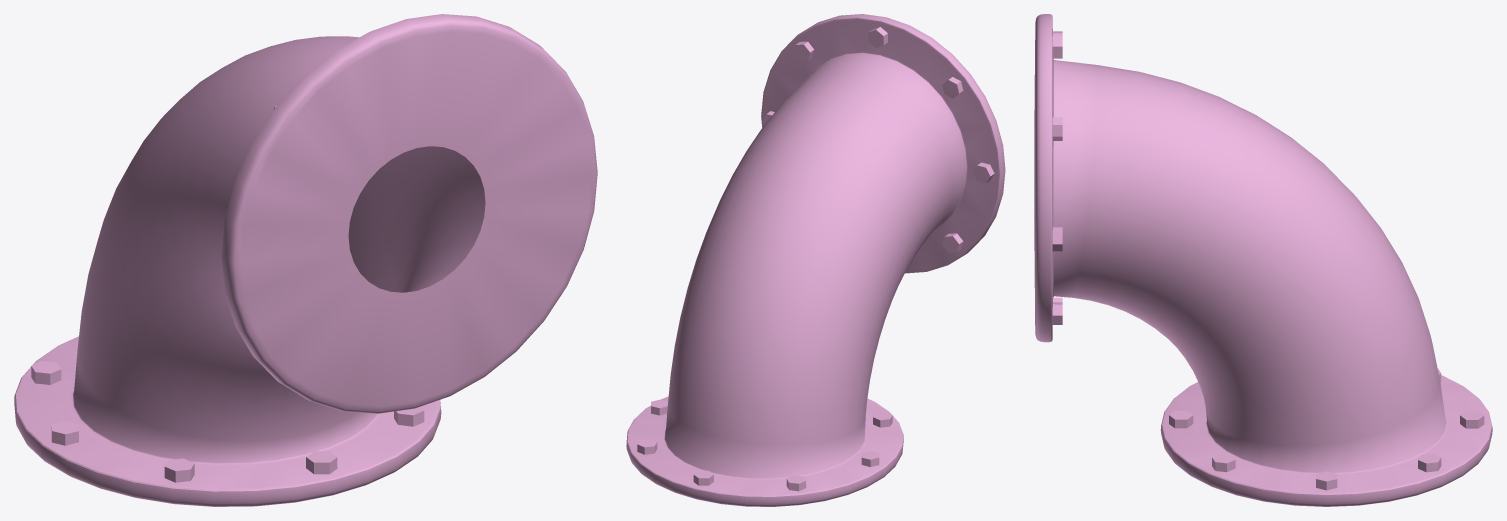
The model's file is bendx15x15_low.fbx.
3 views of the same model, side by side, from view 1: azimuth 30°, elevation 25°; view 2: azimuth 150°, elevation 25°; view 3: azimuth 270°, elevation 25° (orthographic). The views are drawn at different scales.
Visible parts, largest first — view 1: bend15x15_low, bend15x15xbolt_low; view 2: bend15x15_low, bend15x15xbolt_low; view 3: bend15x15_low, bend15x15xbolt_low.
Part boxes in pixels (<box>): bend15x15_low: <box>14,14,597,506</box>; bend15x15xbolt_low: <box>31,105,424,482</box>; bend15x15_low: <box>626,14,1005,506</box>; bend15x15xbolt_low: <box>637,27,994,491</box>; bend15x15_low: <box>1034,14,1492,506</box>; bend15x15xbolt_low: <box>1052,31,1484,490</box>.
Size of the model in its own units: 14.61 by 20.11 by 20.3.
